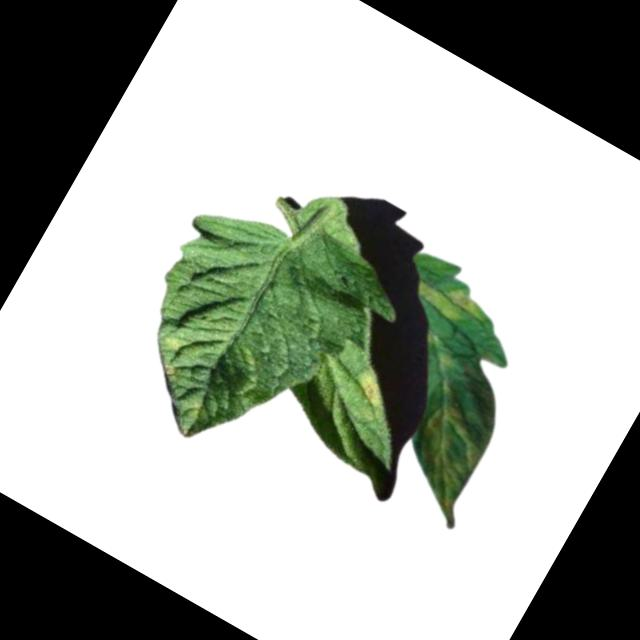Leaf_Mold: (383, 395, 507, 533), (408, 266, 495, 336), (144, 323, 199, 385), (341, 364, 395, 415)
